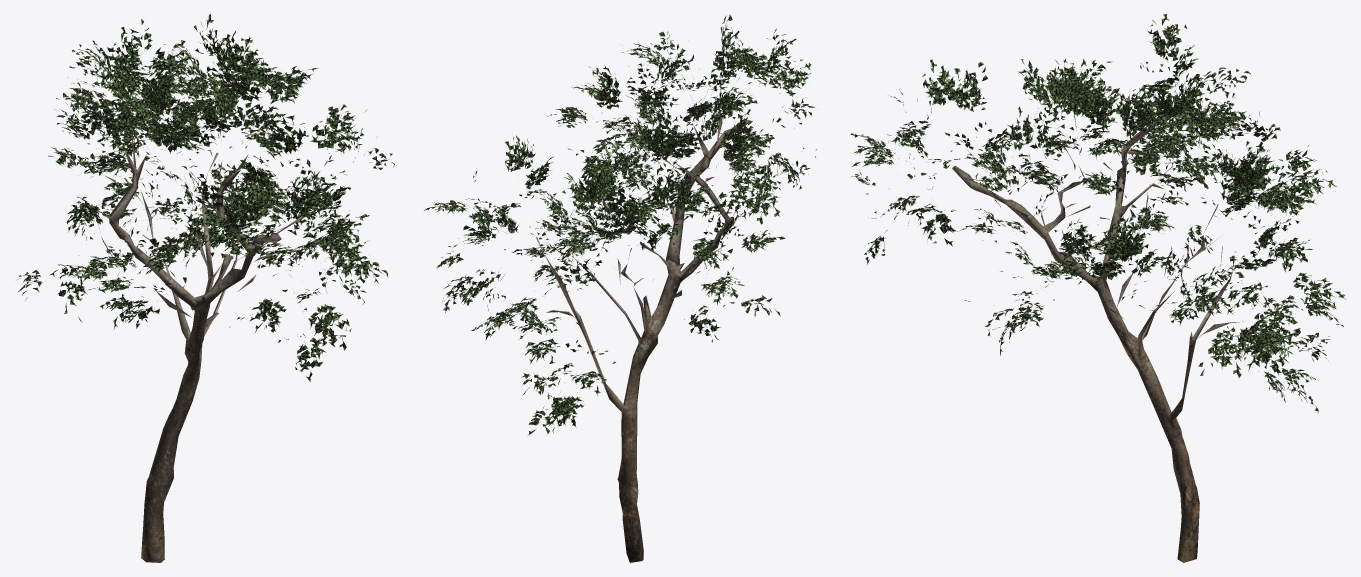
The model's file is orchard-tree-realistic.glb.
The picture shows the model from 3 angles, left to right: view 1: azimuth 30°, elevation 25°; view 2: azimuth 150°, elevation 25°; view 3: azimuth 270°, elevation 25°; orthographic projection. The views are drawn at different scales.
Parts seen in each view (by area): view 1: tree_small_02_LOD0; view 2: tree_small_02_LOD0; view 3: tree_small_02_LOD0.
Boxes of the visible parts, x1,y1,x2,y2 form: tree_small_02_LOD0: [17, 14, 394, 562]; tree_small_02_LOD0: [424, 14, 816, 562]; tree_small_02_LOD0: [851, 14, 1345, 562].
Size of the model in its own units: 2.89 by 4.54 by 4.06.
3 materials, 3 textured.
